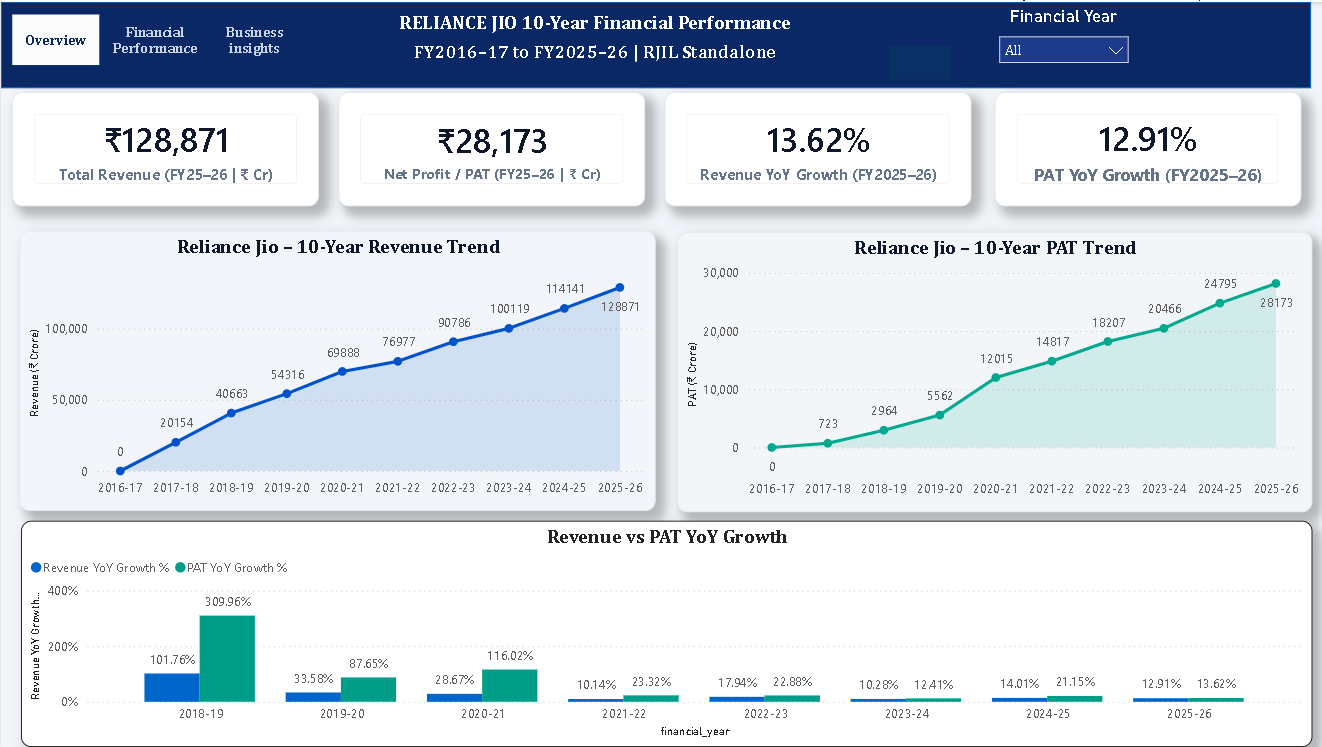

The page's visual inventory and layout, read from the dashboard file:
{"tool":"powerbi","page":{"name":"Overview","canvas":[1280,720],"ordinal":0},"visuals":[{"type":"shape","box":[0,0,1264.4,83.2],"z":0},{"type":"cardVisual","fields":{"Data":["public vw_jio_financial_growth.Latest PAT"]},"box":[326.1,87.1,296,110],"z":1000},{"type":"cardVisual","title":"Total Revenue (₹ Crore)","fields":{"Data":["public vw_jio_financial_performance.Latest Revenue"]},"box":[11,87.1,296,110],"z":2000},{"type":"cardVisual","fields":{"Data":["public vw_jio_financial_growth.Revenue YoY Growth"]},"box":[958.7,86.8,295.9,110.1],"z":3000},{"type":"cardVisual","fields":{"Data":["public vw_jio_financial_growth.PAT YoY Growth"]},"box":[641.2,87.1,296,110],"z":4000},{"type":"lineChart","title":"Reliance Jio – 10-Year Revenue Trend","fields":{"Category":["public vw_jio_financial_performance.financial_year"],"Y":["Sum(public vw_jio_financial_performance.value)"]},"box":[18.3,221.3,613.9,270.2],"z":5000},{"type":"lineChart","title":"Reliance Jio – 10-Year PAT Trend","fields":{"Category":["public vw_jio_financial_performance.financial_year"],"Y":["Sum(public vw_jio_financial_performance.value)"]},"box":[653,222.6,612.6,270.2],"z":6000},{"type":"slicer","title":"Financial Year","fields":{"Values":["public vw_jio_financial_performance.financial_year"]},"box":[952.6,3.7,145.5,66],"z":7000},{"type":"textbox","title":"RELIANCE JIO 10-Year Financial Performance ","box":[229.9,0,686,74.6],"z":8000},{"type":"shape","box":[857.8,42.2,59.1,32.6],"z":9000},{"type":"clusteredColumnChart","title":"Revenue vs PAT YoY Growth","fields":{"Category":["public vw_jio_financial_performance.financial_year"],"Y":["public vw_jio_financial_performance.Revenue YoY Growth %","public vw_jio_financial_performance.PAT YoY Growth %"]},"box":[18.8,501.2,1246.2,218.8],"z":10000},{"type":"pageNavigator","box":[10.9,12.1,278.7,49.5],"z":11000}]}

Visuals, with their boxes in screenshot pixels (x1, y1, x2, y2), scaled from the page's 1280x720 canvas onto the 1322x747 screenshot:
shape: <region>0, 0, 1306, 86</region>
cardVisual - public vw_jio_financial_growth.Latest PAT: <region>337, 90, 643, 204</region>
"Total Revenue (₹ Crore)" cardVisual: <region>11, 90, 317, 204</region>
cardVisual - public vw_jio_financial_growth.Revenue YoY Growth: <region>990, 90, 1296, 204</region>
cardVisual - public vw_jio_financial_growth.PAT YoY Growth: <region>662, 90, 968, 204</region>
"Reliance Jio – 10-Year Revenue Trend" lineChart: <region>19, 230, 653, 510</region>
"Reliance Jio – 10-Year PAT Trend" lineChart: <region>674, 231, 1307, 511</region>
"Financial Year" slicer: <region>984, 4, 1134, 72</region>
"RELIANCE JIO 10-Year Financial Performance " textbox: <region>237, 0, 946, 77</region>
shape: <region>886, 44, 947, 78</region>
"Revenue vs PAT YoY Growth" clusteredColumnChart: <region>19, 520, 1307, 746</region>
pageNavigator: <region>11, 13, 299, 64</region>
